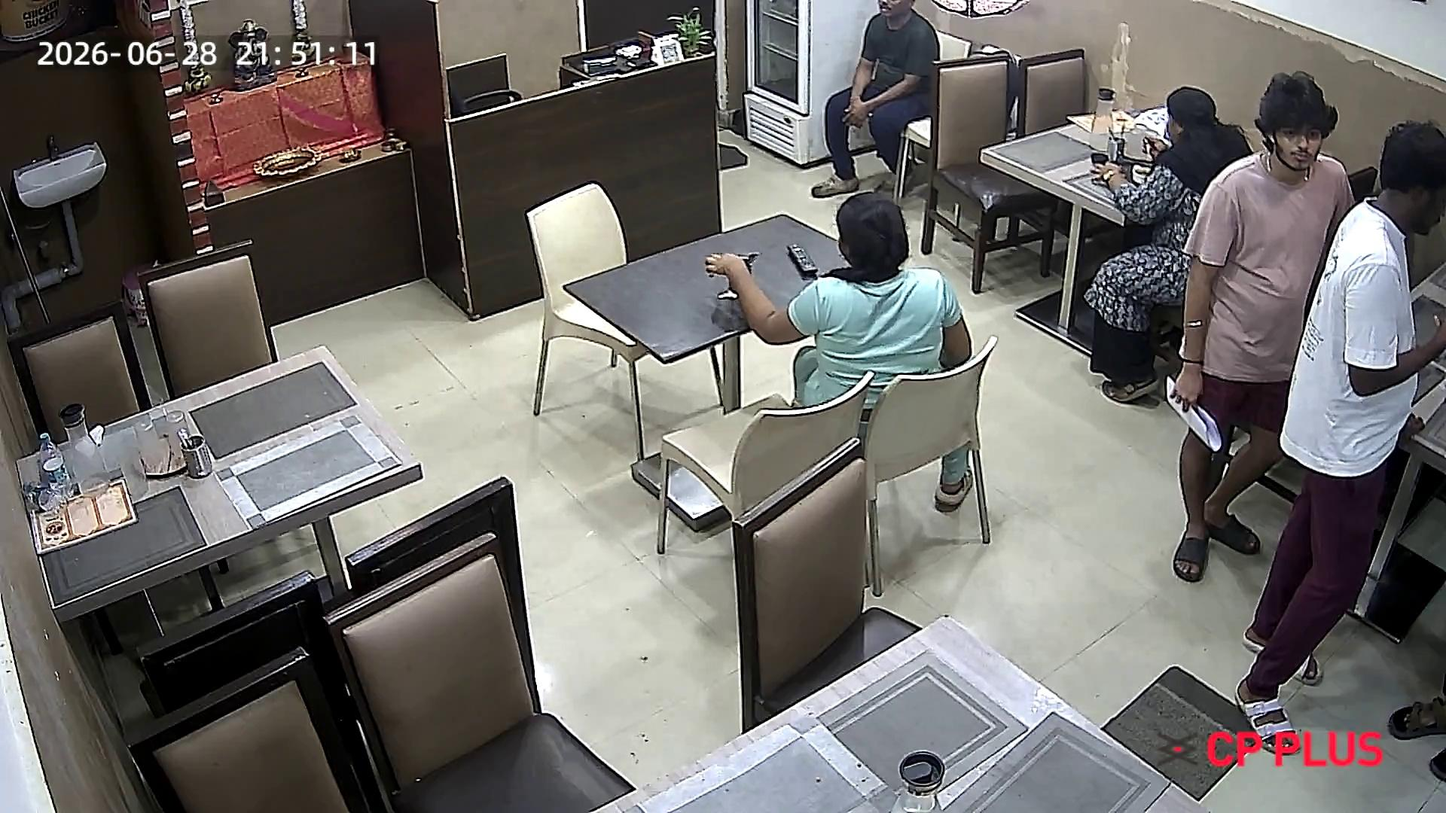clean: (622, 627, 1209, 813)
dirty: (15, 337, 426, 608)
occupied: (567, 221, 1034, 416), (977, 57, 1269, 222)
